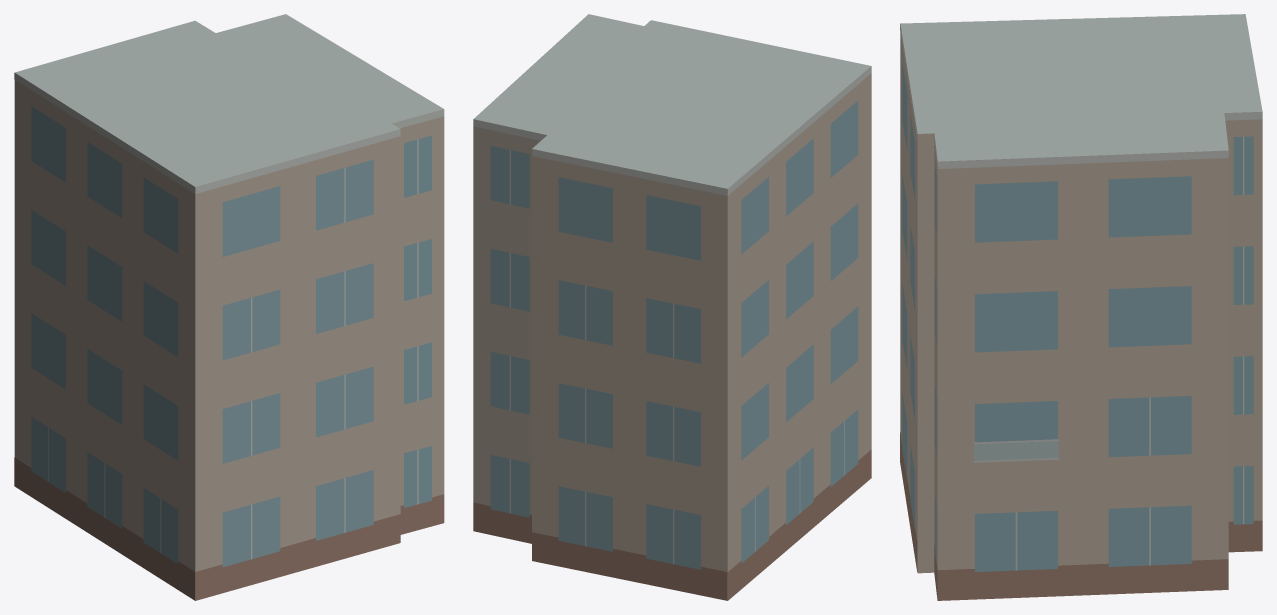
The model's file is survey-upis-32482265.glb.
The picture shows the model from 3 angles, left to right: view 1: azimuth 30°, elevation 25°; view 2: azimuth 150°, elevation 25°; view 3: azimuth 270°, elevation 25°; orthographic projection. The views are drawn at different scales.
Parts seen in each view (by area): view 1: survey-upis-32482265.tmp; view 2: survey-upis-32482265.tmp; view 3: survey-upis-32482265.tmp.
Boxes of the visible parts, x1,y1,x2,y2 form: survey-upis-32482265.tmp: [14, 14, 444, 600]; survey-upis-32482265.tmp: [473, 14, 871, 600]; survey-upis-32482265.tmp: [900, 14, 1262, 600].
Bounding box in the file's own units: 10.27 × 14.25 × 10.66.
